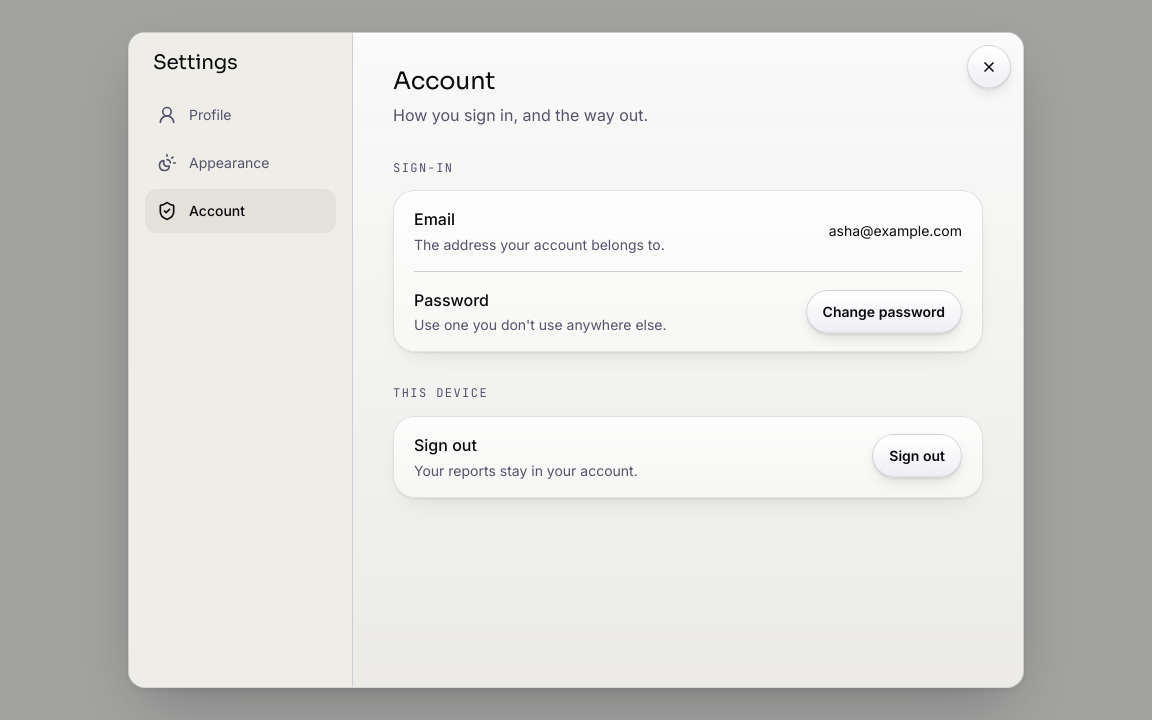
Test: changing the password › a wrong current password is said beside that box, in words that fit here
The width and height of the screenshot is (1152, 720).
Click the button "Change password". click: [884, 312]
box: [806, 290, 962, 334]
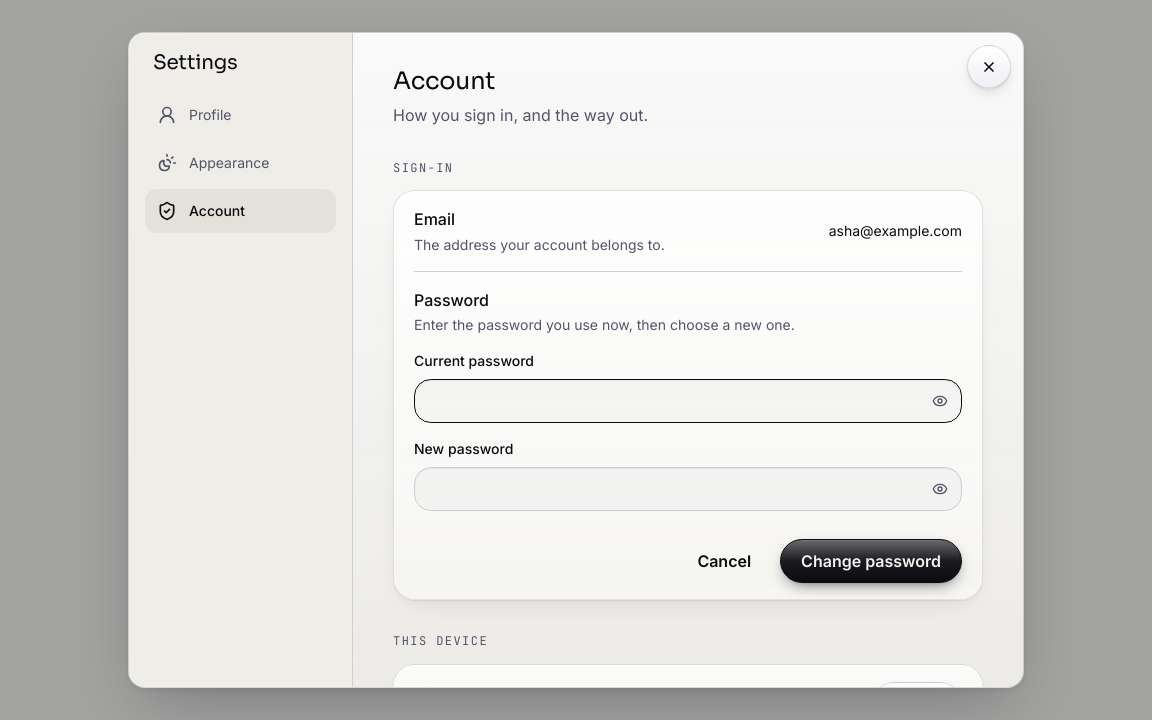
Type "WrongPass1" into the password field labelled "Current password". click: [688, 401]
box: [414, 379, 962, 423]
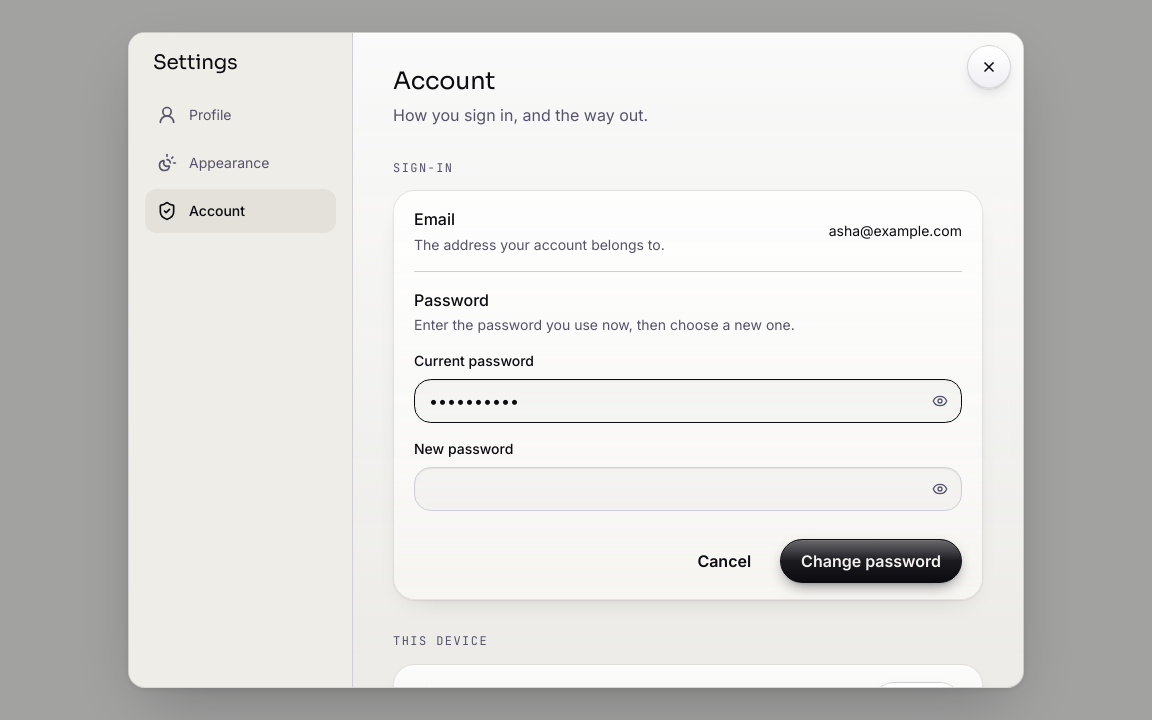
Type "NewPass456" into the password field labelled "New password". click: [688, 489]
box: [414, 467, 962, 511]
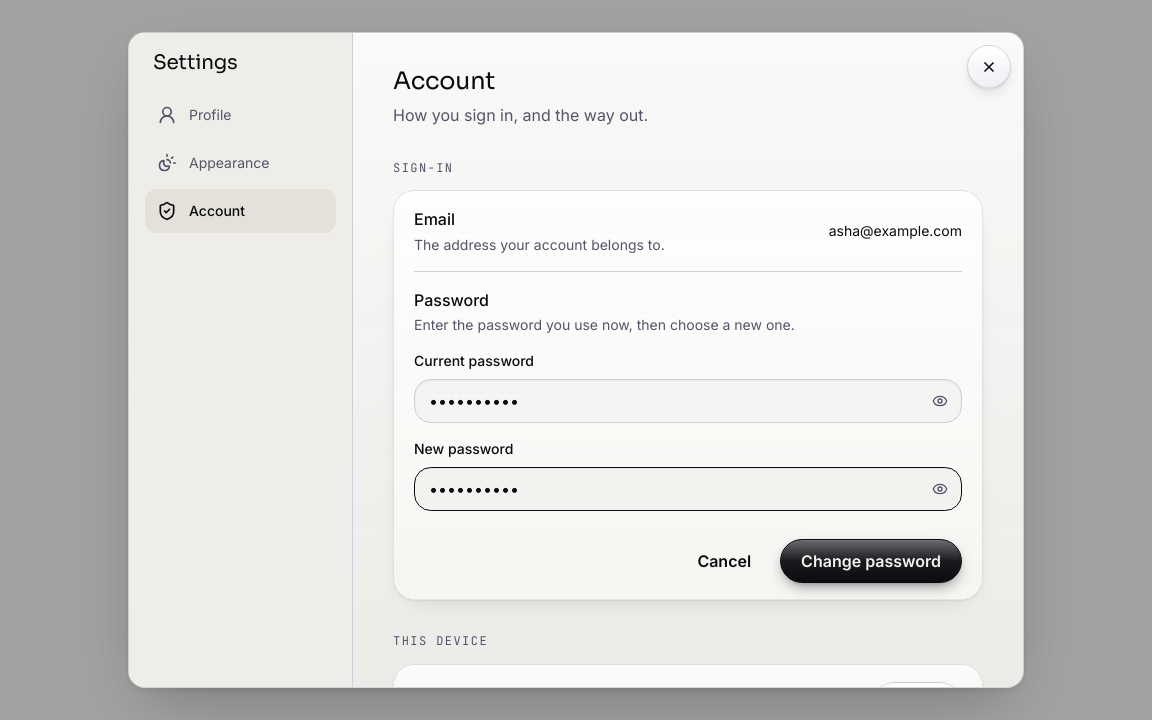
Click the button "Change password". click: [871, 561]
box: [780, 539, 962, 583]
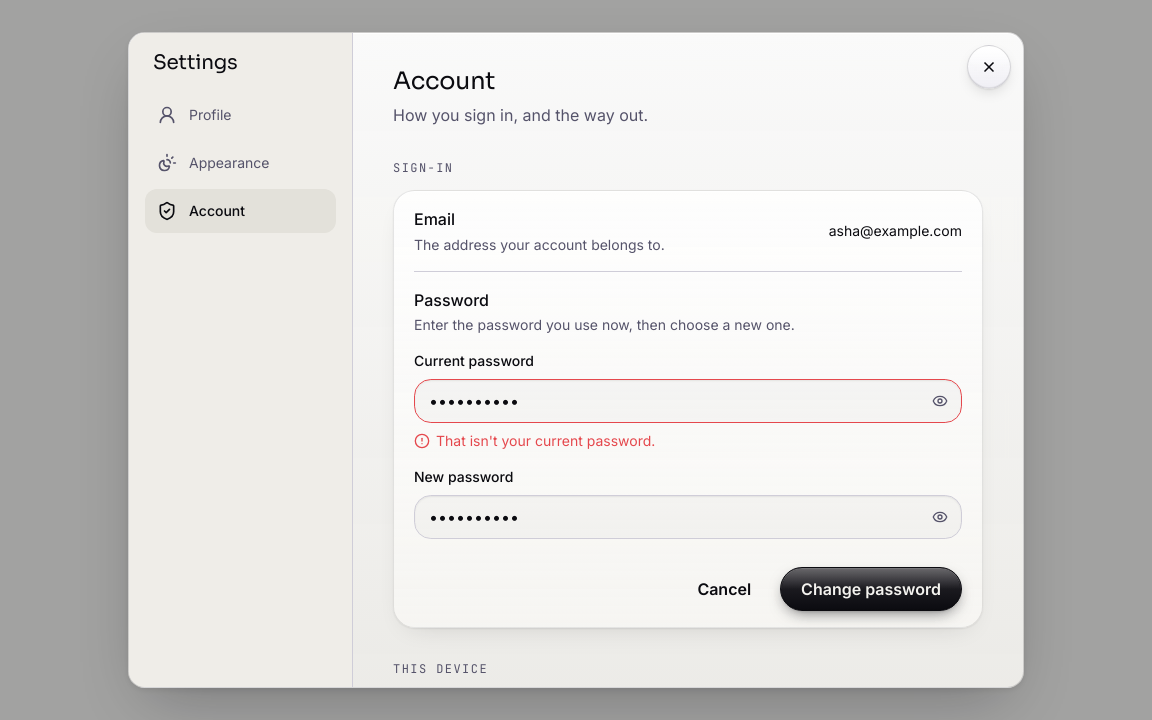
Check: the button "Change password" is enabled, box [780, 567, 962, 611]
Check: the message reads "That isn't your current password.", box [436, 432, 655, 449]
